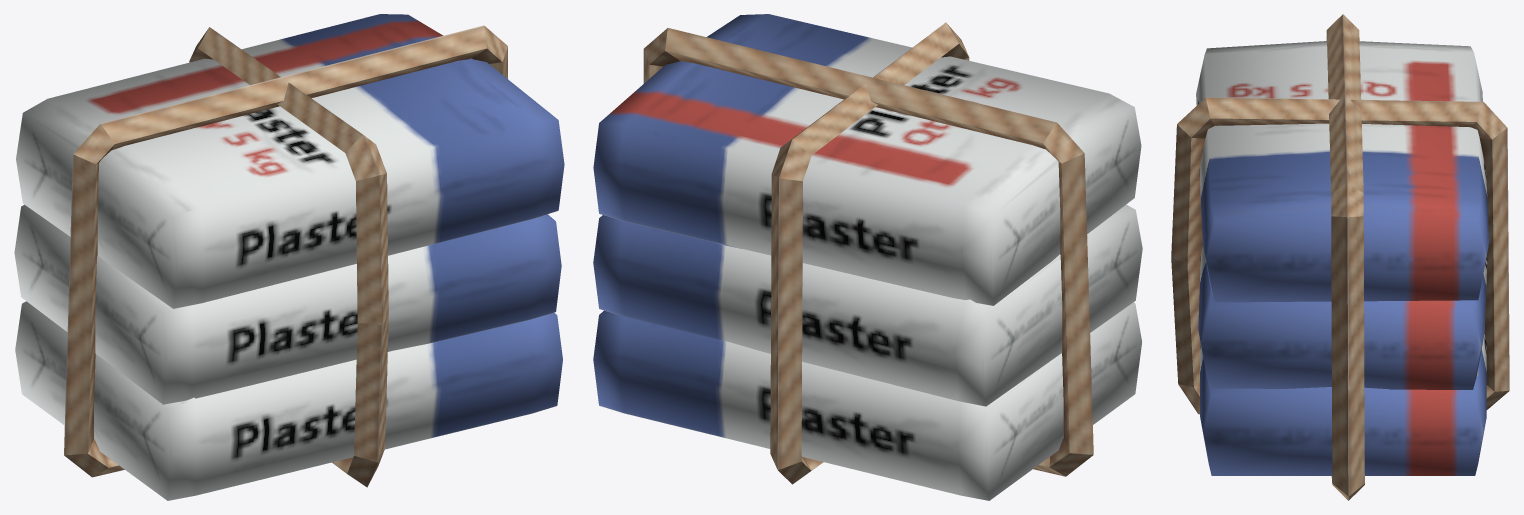
Rendered from stack_of_plaster_powder.fbx.
The picture shows the model from 3 angles, left to right: view 1: azimuth 30°, elevation 25°; view 2: azimuth 150°, elevation 25°; view 3: azimuth 270°, elevation 25°; orthographic projection. The views are drawn at different scales.
Visible parts, largest first — view 1: BagofPlasterPowder; view 2: BagofPlasterPowder; view 3: BagofPlasterPowder.
Boxes of the visible parts, x1,y1,x2,y2 form: BagofPlasterPowder: (14, 14, 564, 500); BagofPlasterPowder: (593, 14, 1142, 500); BagofPlasterPowder: (1171, 14, 1509, 500).
Size of the model in its own units: 0.4057 by 0.3091 by 0.2943.
